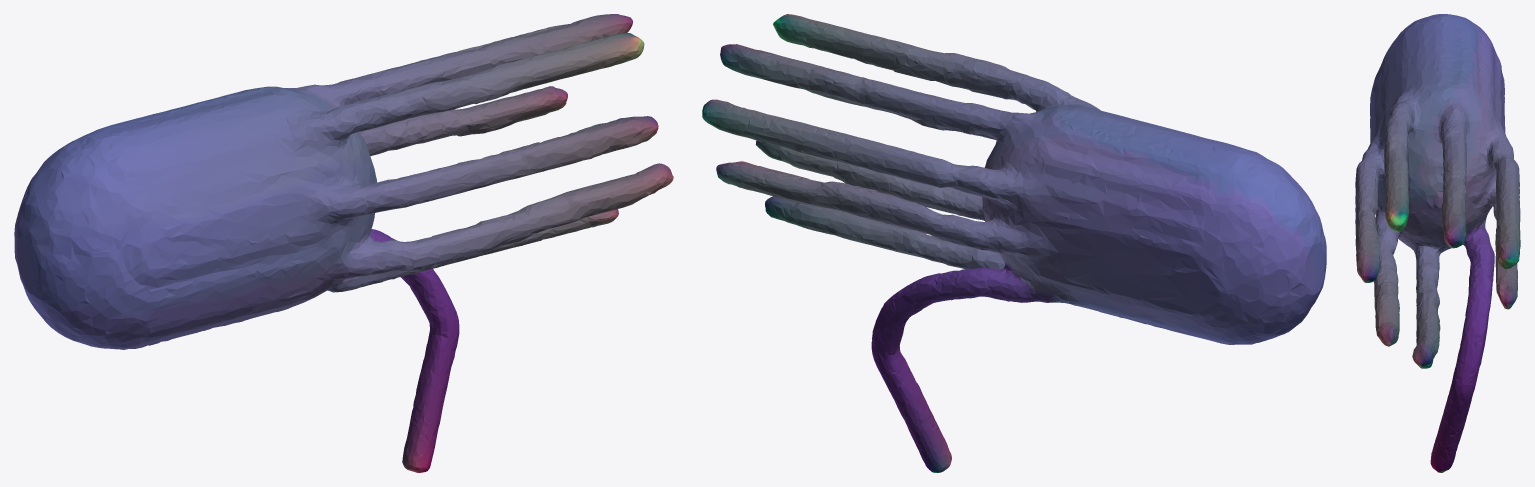
The model's file is octopus-14.off.obj.
3 views of the same model, side by side, from view 1: azimuth 30°, elevation 25°; view 2: azimuth 150°, elevation 25°; view 3: azimuth 270°, elevation 25° (orthographic). The views are drawn at different scales.
Size of the model in its own units: 1.72 by 1.1 by 0.4956.
